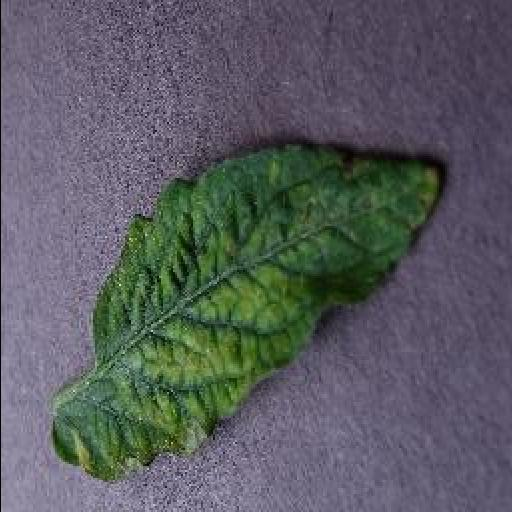disease_tomato: (50, 140, 444, 486)
